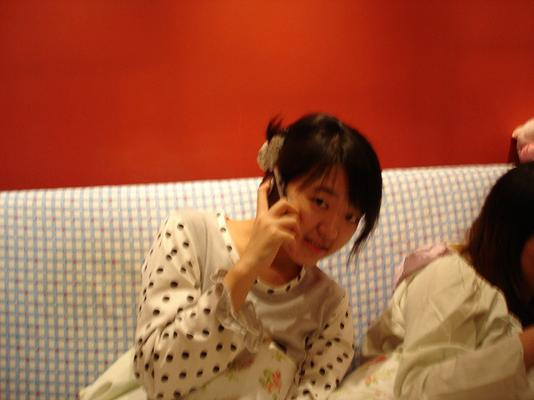person: (133, 113, 383, 400)
